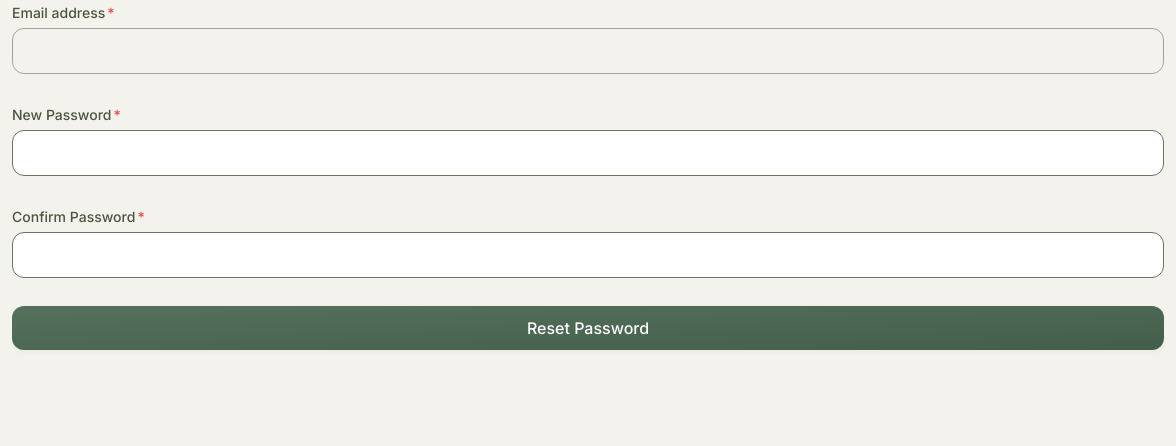
Scenario: ResetPasswordForm.vue › blocks submit when the password is too short
Type "short" into the password field with id "reset-password" at (588, 153), box [12,130,1164,176]
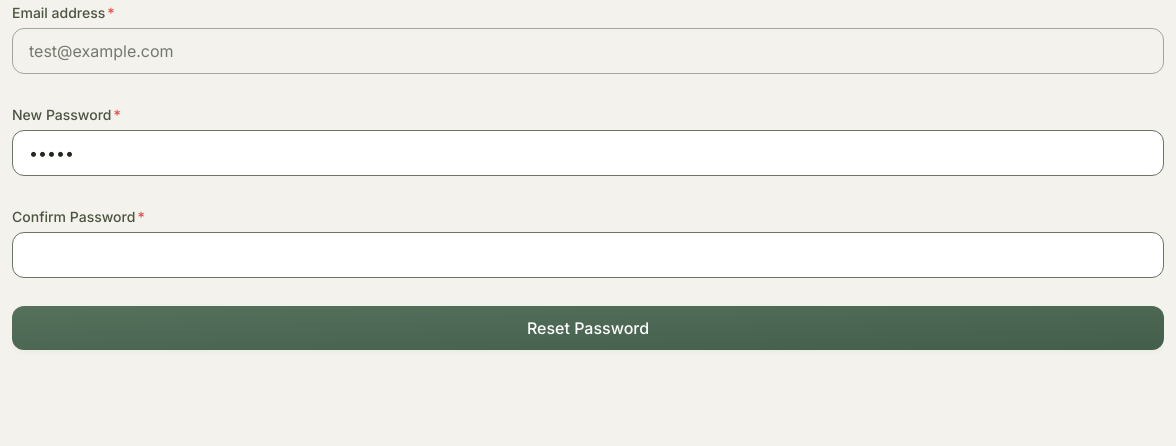
Type "short" into the password field with id "reset-password-confirmation" at (588, 255), box [12,232,1164,278]
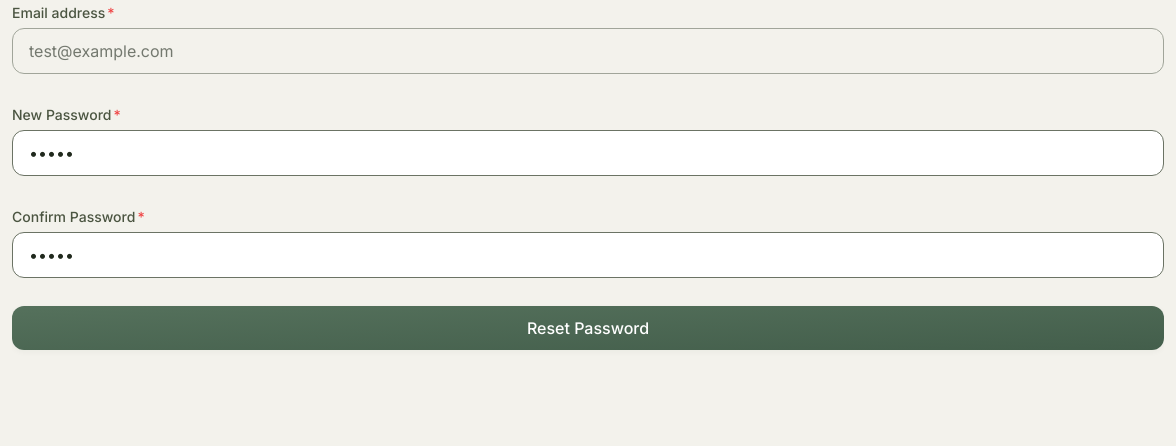
Submit the form
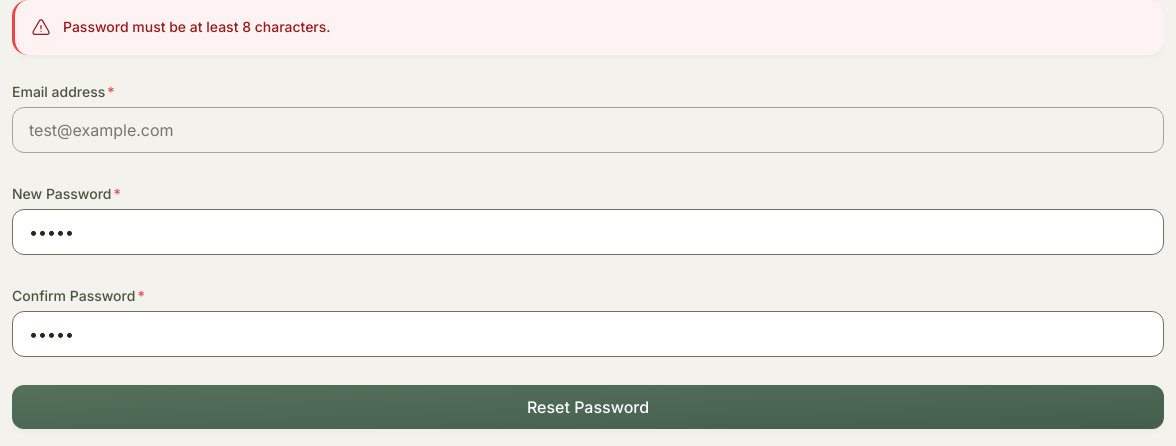
Now the text "at least 8 characters" is shown, box [63,18,331,35]
